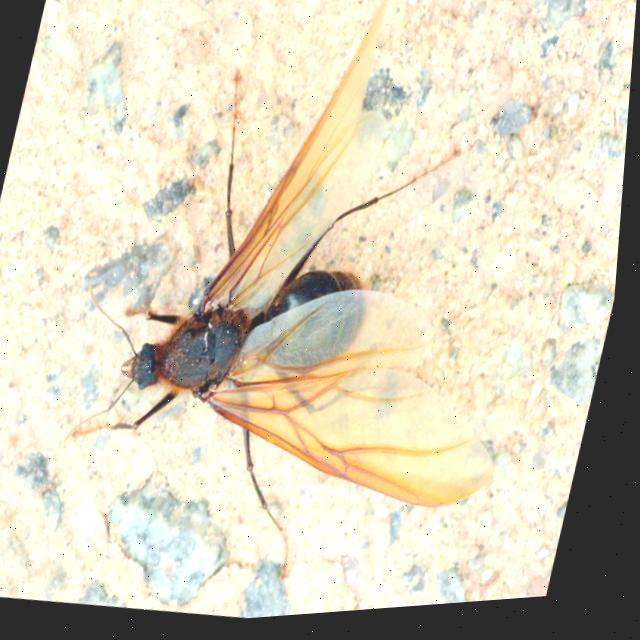Alive-Male-Alate: (30, 0, 604, 631)
